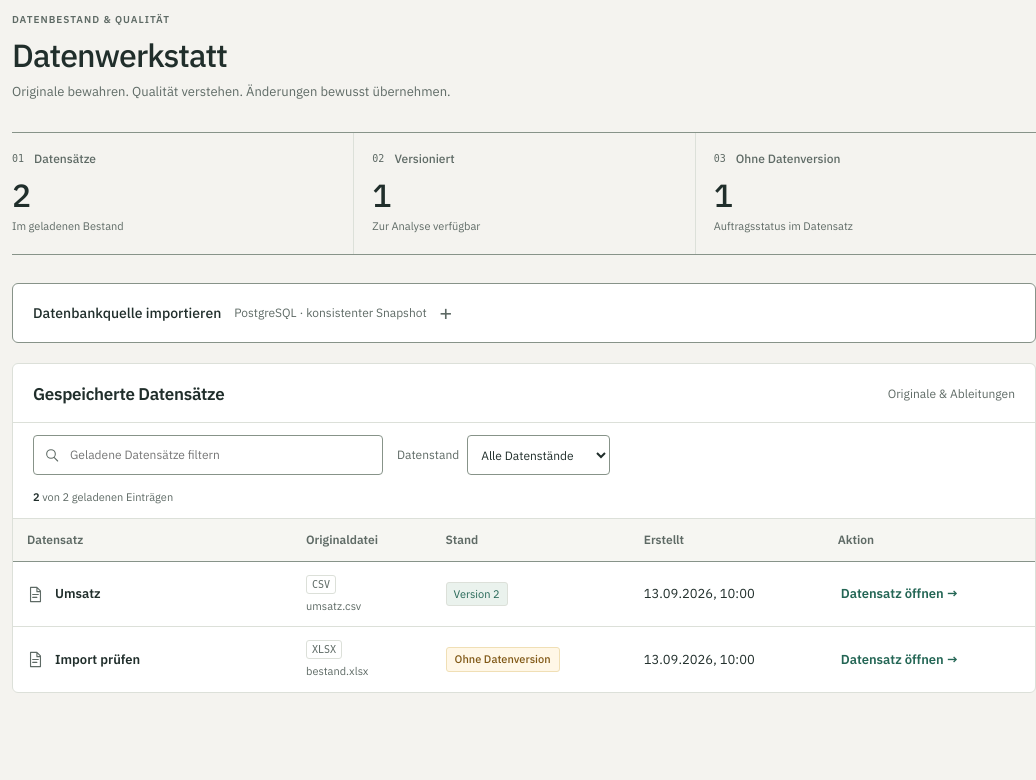
Test: kombiniert Bestandsfilter, ohne unveröffentlichte Importe als laufend auszugeben
Expected: the column heading "Umsatz" is shown, [13,562,292,627]
Select "Ohne Datenversion" in the dropdown labelled "Datenstand" at (539, 455), box [467,435,610,475]
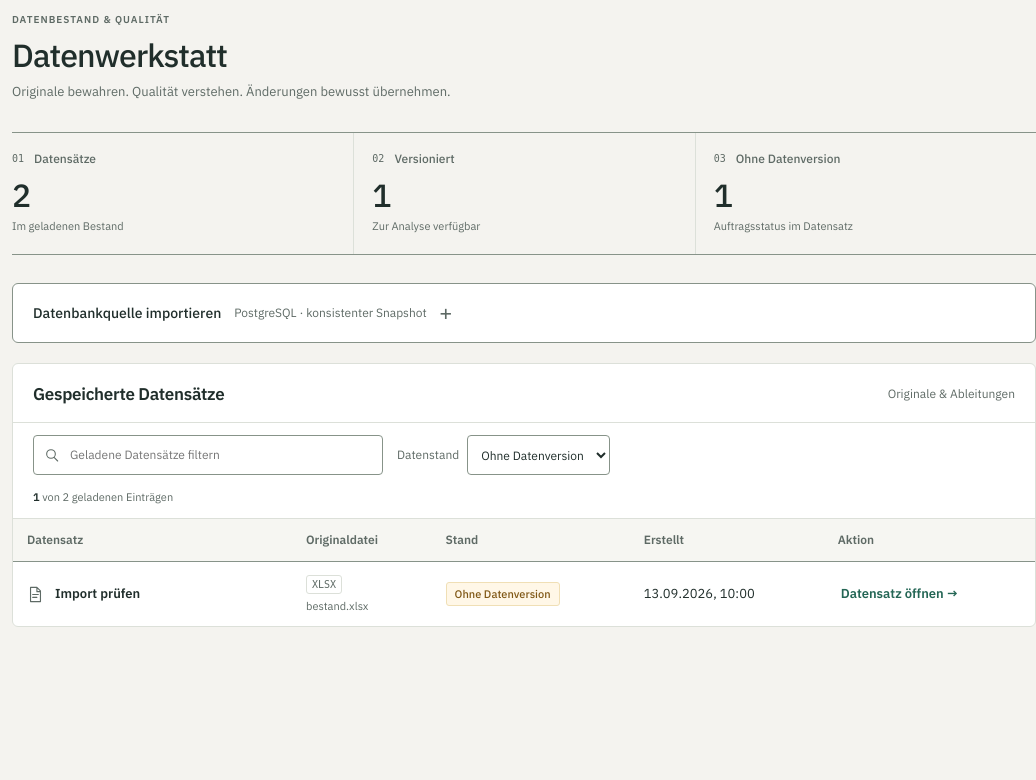
Expected: the column heading "Import prüfen" is shown, [13,562,292,626]
Result: the element "Umsatz" is gone
Type "umsatz" into the search field at (208, 455), box [33,435,383,475]
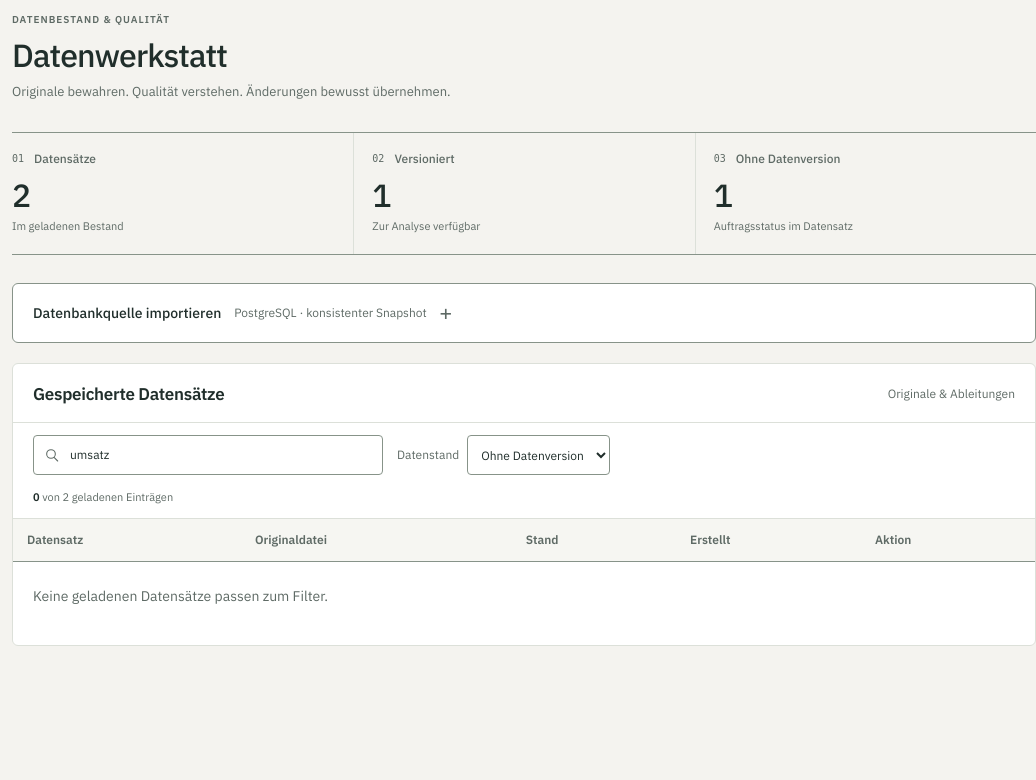
Result: the text "Keine geladenen Datensätze passen zum Filter." is shown at [33,587,328,605]
Result: the message reads "0 von 2 geladenen Einträgen" at [33,490,173,504]
